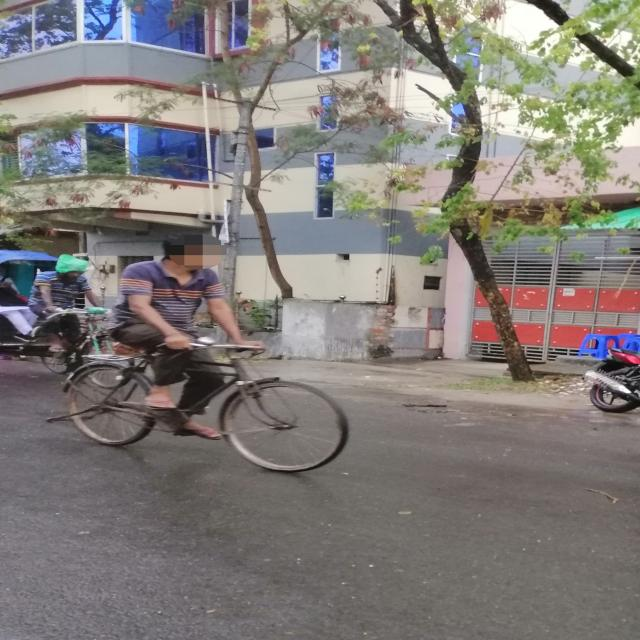Bicycle: (40, 337, 380, 474)
